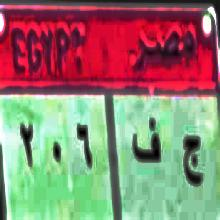0: (50, 133, 64, 174)
2: (18, 109, 36, 175)
6: (75, 118, 94, 176)
faa: (130, 115, 162, 176)
jeem: (182, 133, 205, 196)
